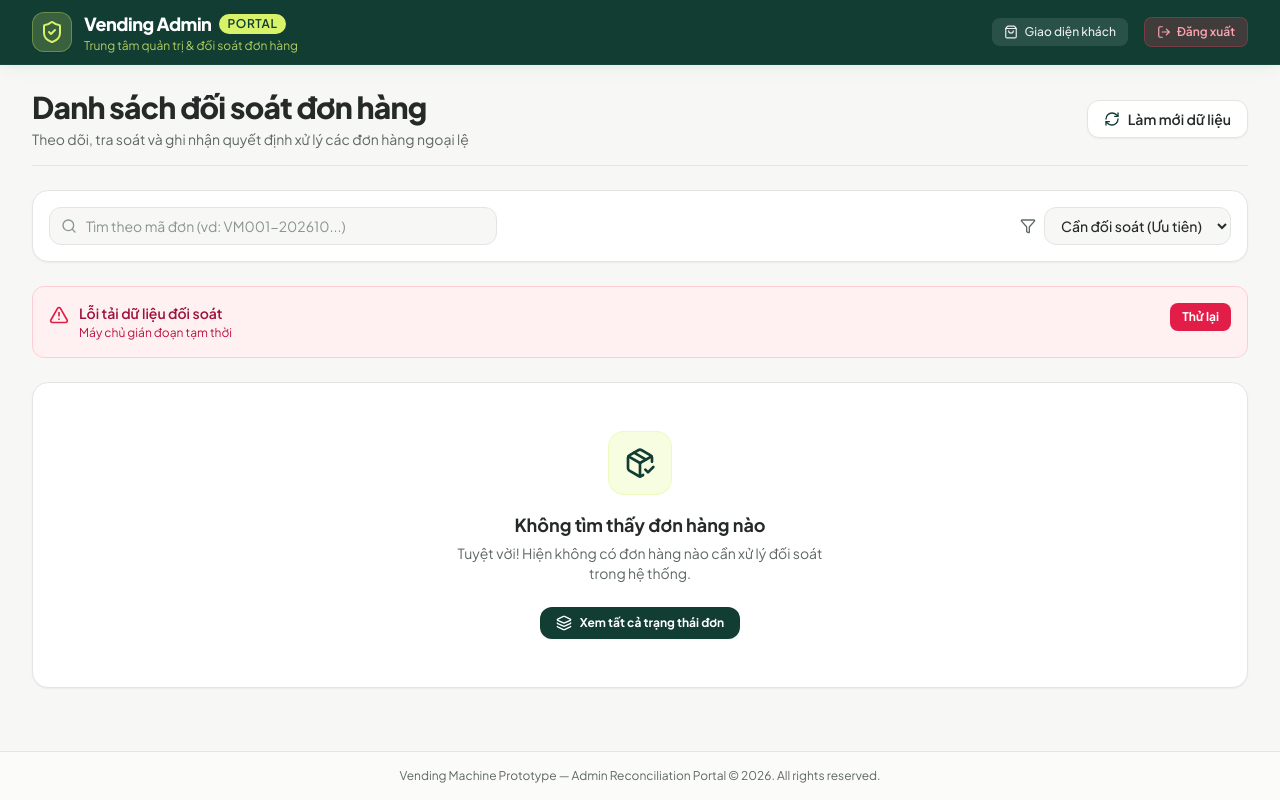
Test: ReconciliationDashboardPage Component › handles API error and allows retry
The width and height of the screenshot is (1280, 800).
expect the text "Lỗi tải dữ liệu đối soát" is shown: met, box [79,303,232,323]
expect the text "Máy chủ gián đoạn tạm thời" is shown: met, box [79,325,232,341]
// Click retry button
Click the button "Thử lại". click: click(1201, 317)
box: [1170,303,1231,331]
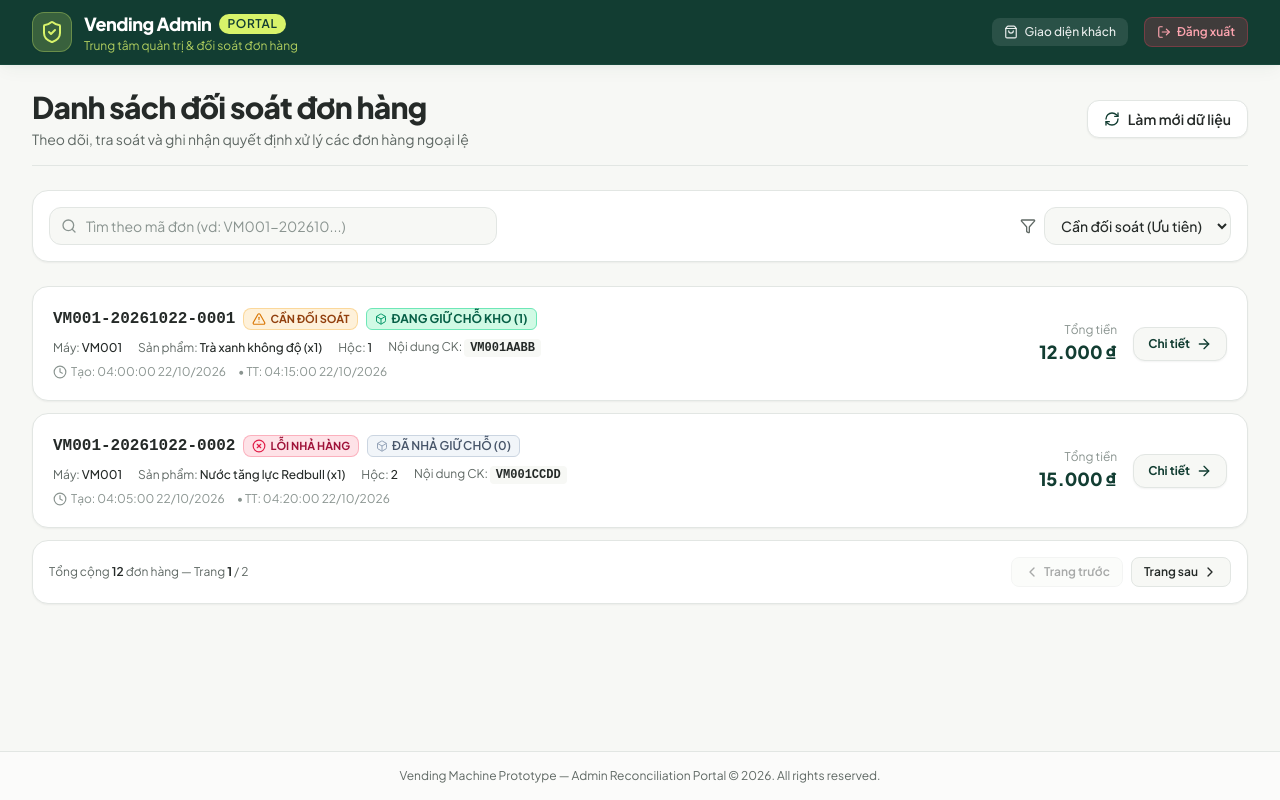
expect the text "VM001-20261022-0001" is shown: met, box [53,307,235,331]
